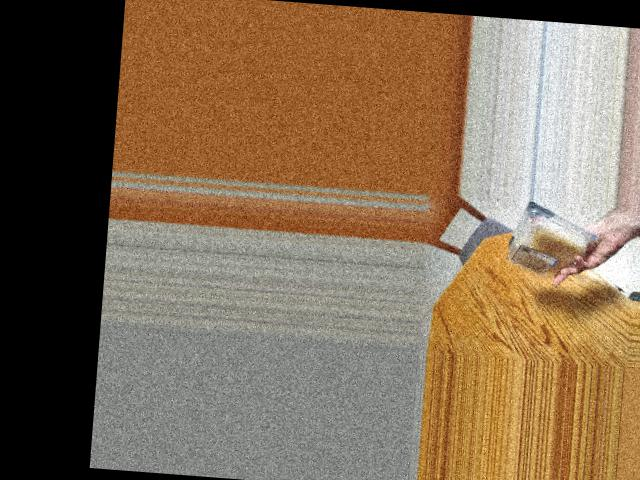cheese: (506, 205, 590, 278)
